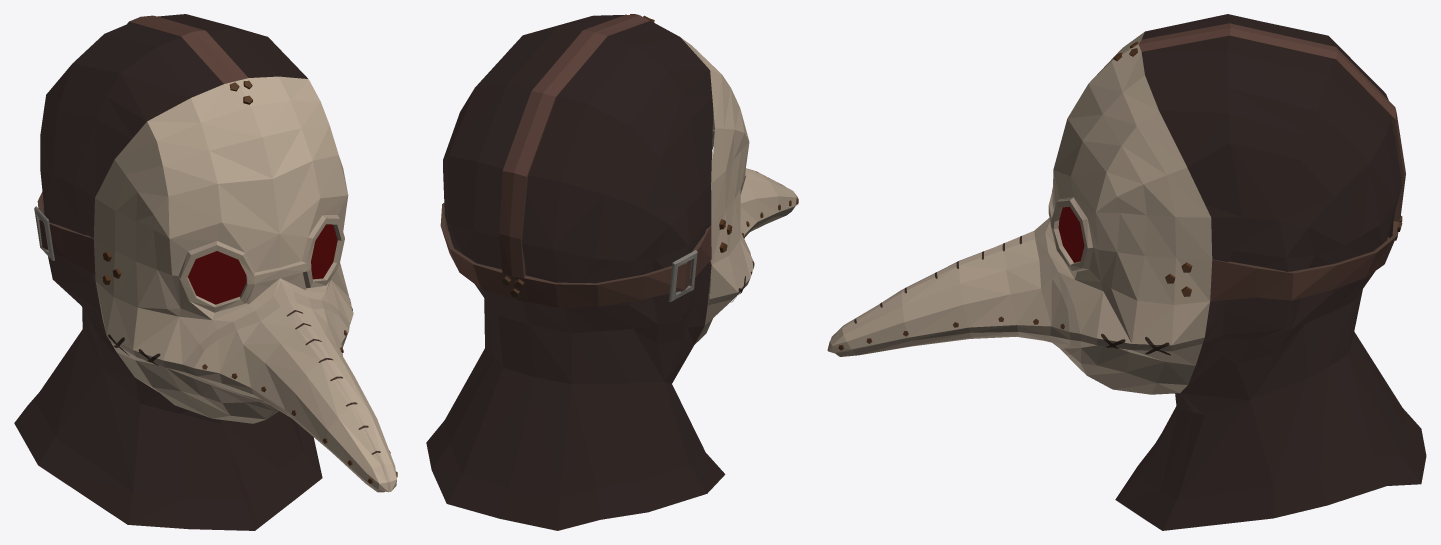
Rendered from plagueDoctorHatSimple.glb.
3 renders of one model, left to right at view 1: azimuth 30°, elevation 25°; view 2: azimuth 150°, elevation 25°; view 3: azimuth 270°, elevation 25°, orthographic. The views are drawn at different scales.
Parts seen in each view (by area): view 1: plagueDoctorHatSimple; view 2: plagueDoctorHatSimple; view 3: plagueDoctorHatSimple.
Part boxes in pixels (bbox=[...]): plagueDoctorHatSimple: bbox=[14, 14, 397, 530]; plagueDoctorHatSimple: bbox=[426, 14, 798, 530]; plagueDoctorHatSimple: bbox=[827, 14, 1426, 530].
Size of the model in its own units: 0.2767 by 0.4541 by 0.5257.
